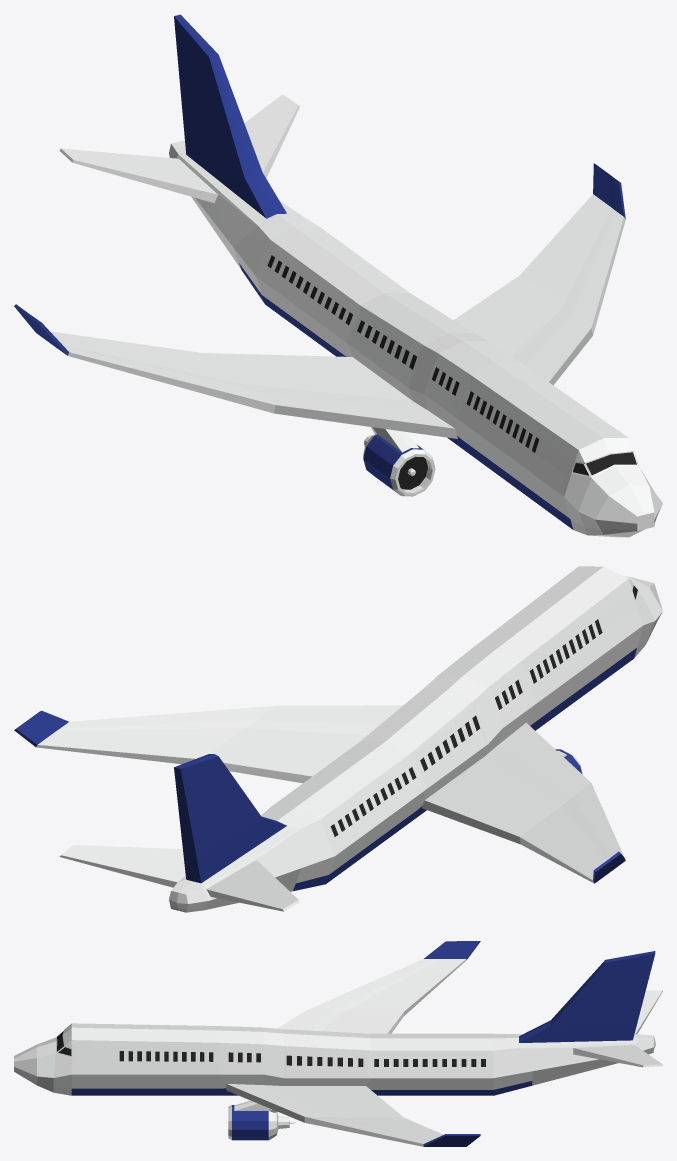
The model's file is boeing_planeOld.fbx.
3 renders of one model, top to bottom at view 1: azimuth 30°, elevation 25°; view 2: azimuth 150°, elevation 25°; view 3: azimuth 270°, elevation 25°, orthographic. The views are drawn at different scales.
Parts seen in each view (by area): view 1: MainPlane, LeftWingEnd, RightWIngEnd, RightElevator, RIghtTurbine, LeftElevator; view 2: MainPlane, LeftWingEnd, RightWIngEnd, LeftElevator, RightElevator; view 3: MainPlane, RightWIngEnd, LeftWingEnd, LeftTurbine, LeftElevator, RightElevator.
Boxes of the visible parts, x1,y1,x2,y2 form: MainPlane: (169, 14, 662, 537); LeftWingEnd: (520, 163, 625, 335); RightWIngEnd: (14, 304, 275, 413); RightElevator: (59, 148, 217, 202); RIghtTurbine: (363, 427, 435, 496); LeftElevator: (244, 94, 299, 178); MainPlane: (169, 566, 662, 912); LeftWingEnd: (14, 706, 274, 764); RightWIngEnd: (519, 783, 625, 883); LeftElevator: (59, 845, 185, 887); RightElevator: (206, 860, 299, 911); MainPlane: (14, 951, 655, 1122); RightWIngEnd: (305, 941, 480, 1015); LeftWingEnd: (304, 1117, 480, 1146); LeftTurbine: (228, 1100, 295, 1140); LeftElevator: (573, 1045, 662, 1067); RightElevator: (634, 990, 662, 1034).
Size of the model in its own units: 1631 by 634 by 2303.
